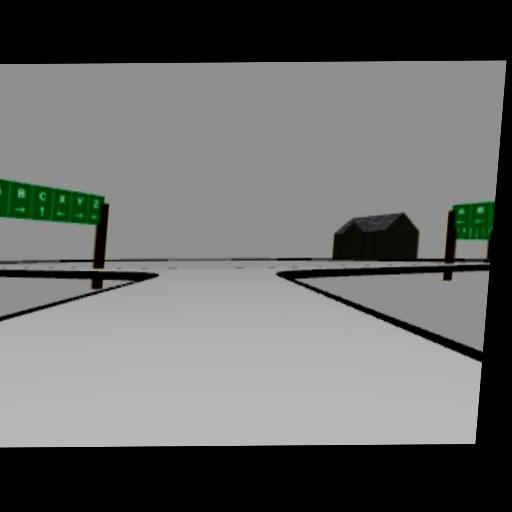A: (457, 206, 466, 215), (0, 184, 3, 196)
B: (16, 187, 27, 199), (476, 204, 486, 216)
C: (37, 190, 49, 202)
Left: (54, 210, 67, 217), (474, 218, 487, 224), (90, 214, 101, 221), (457, 220, 466, 227)
Right: (14, 206, 26, 214), (73, 212, 84, 219)
Straight: (36, 205, 47, 217), (0, 201, 2, 213)
X: (55, 194, 66, 205)
Y: (75, 195, 85, 207)
Z: (92, 198, 102, 210)
